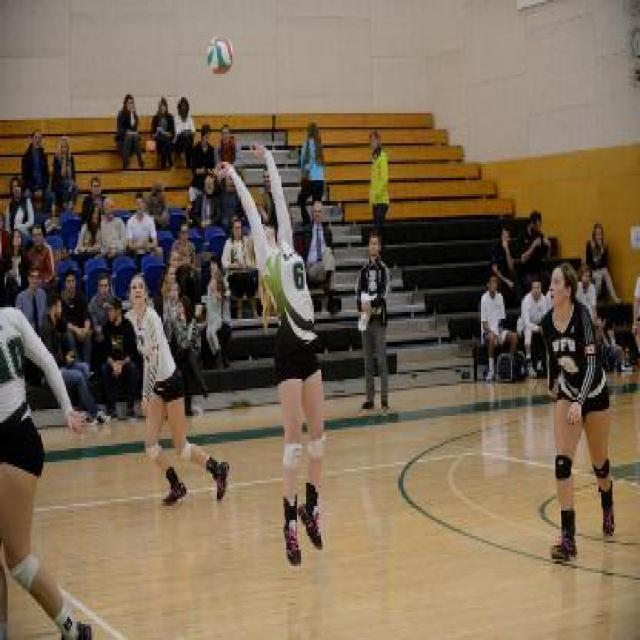volleyball: (205, 38, 234, 75)
